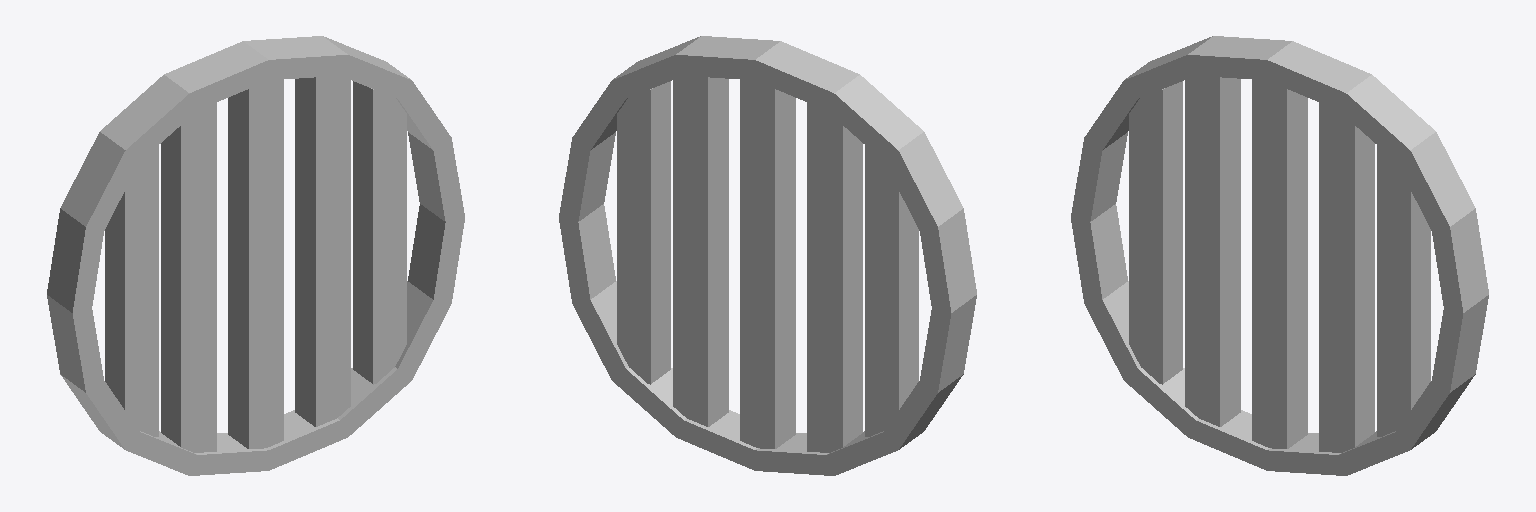
Rendered from PipeGrate.obj.
3 views of the same model, side by side, from view 1: azimuth 30°, elevation 25°; view 2: azimuth 150°, elevation 25°; view 3: azimuth 330°, elevation 25° (orthographic).
Visible parts, largest first — view 1: Gate_Cube.007; view 2: Gate_Cube.007; view 3: Gate_Cube.007.
Boxes of the visible parts, <box> form: Gate_Cube.007: <box>47,36,464,475</box>; Gate_Cube.007: <box>559,36,976,475</box>; Gate_Cube.007: <box>1071,36,1488,475</box>.
Bounding box in the file's own units: 0.5756 × 0.5756 × 0.0655.